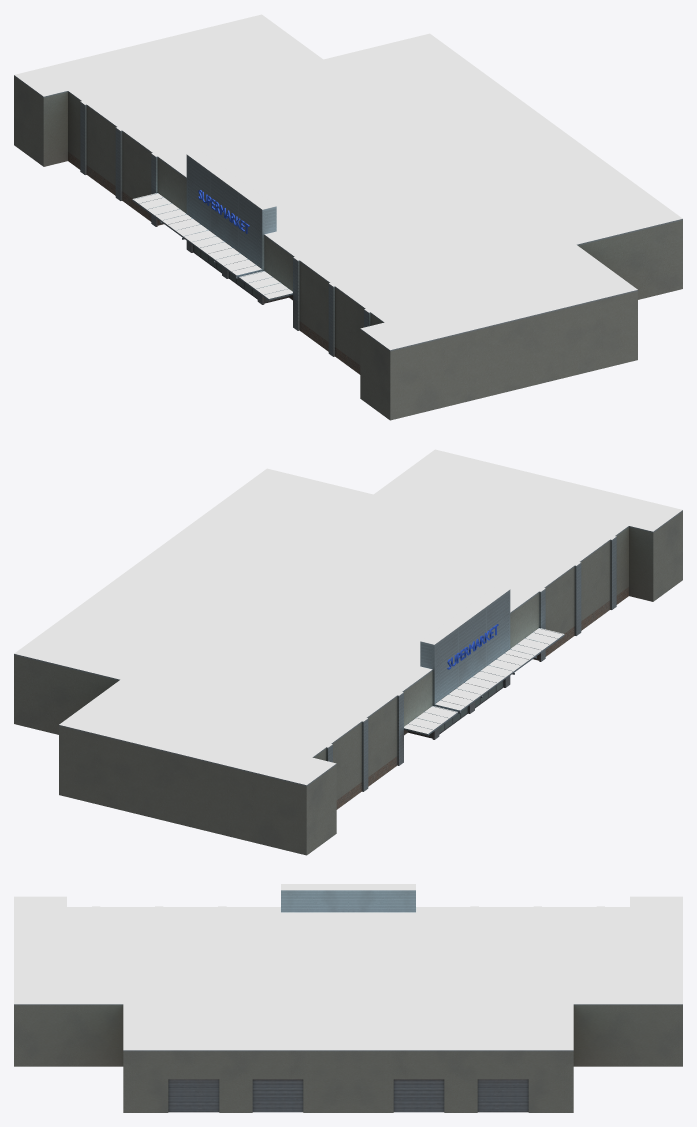
The picture shows the model from 3 angles, top to bottom: view 1: azimuth 30°, elevation 25°; view 2: azimuth 150°, elevation 25°; view 3: azimuth 270°, elevation 25°; orthographic projection. The views are drawn at different scales.
Visible parts, largest first — view 1: market.building; view 2: market.building; view 3: market.building.
Part boxes in pixels (x1,y1,x2,y2): market.building: (14,14,682,420); market.building: (14,449,682,855); market.building: (14,884,682,1112).
Bounding box in the file's own units: 3473 × 883 × 6318.
2 materials, 2 textured.
